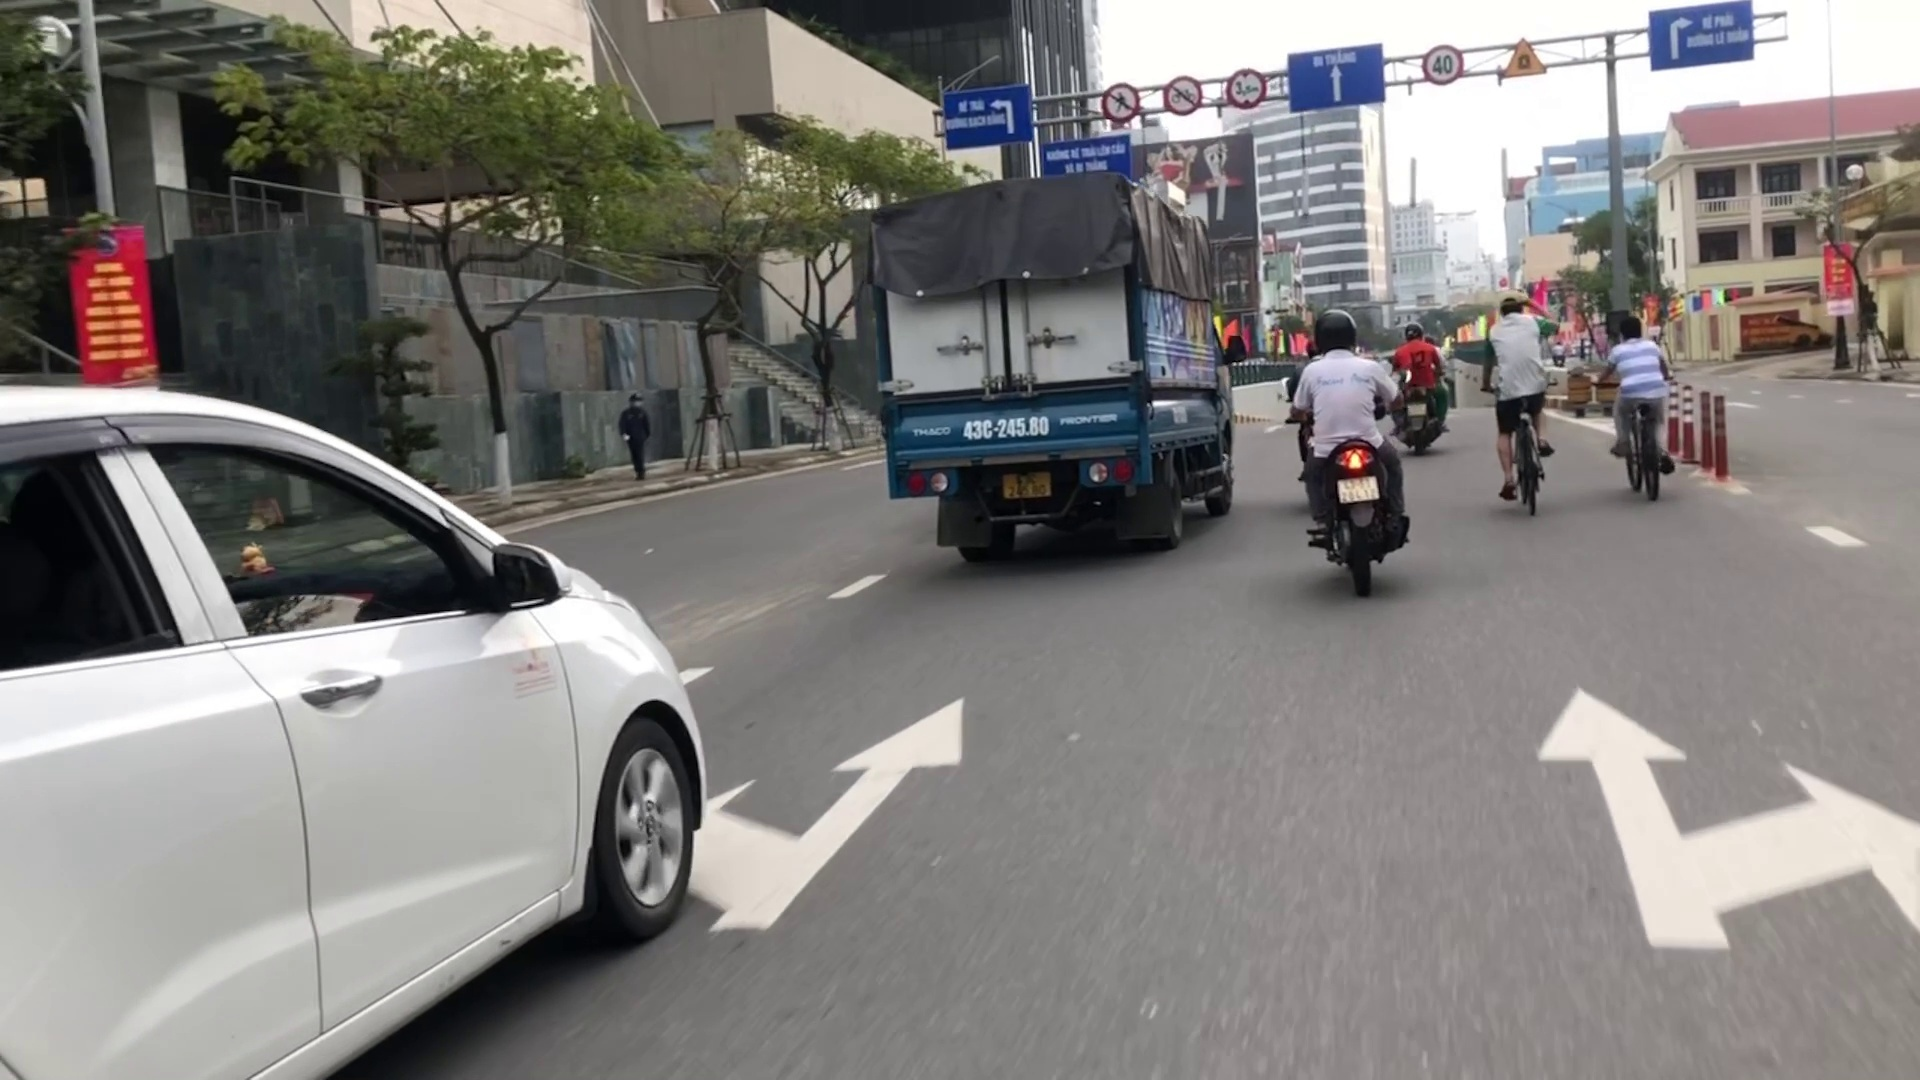Bien khac: (1422, 45, 1460, 80)
